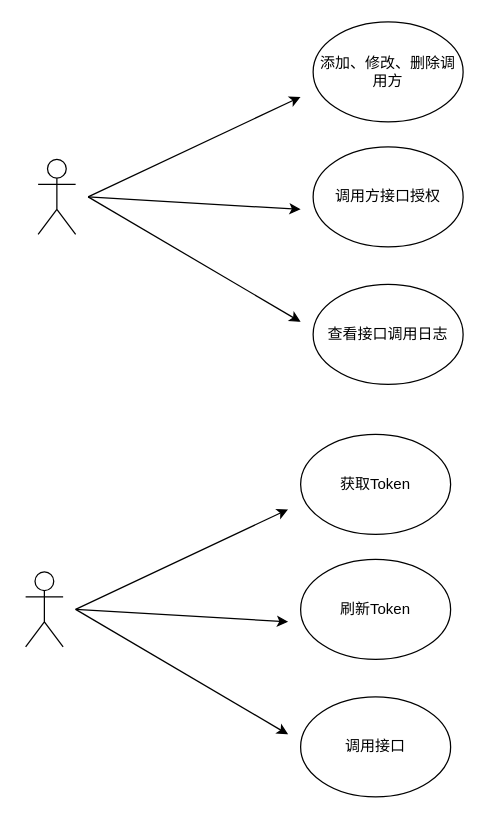
Image size: 485x819. Some labels were removed from this diagram. Here are the shapes that lost their labels. From the top down, the centre of each, then its label:
the point at 56,196: 管理员
the point at 43,609: 调用方
